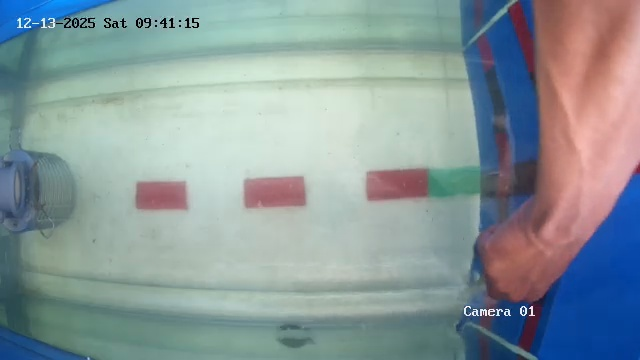fish: (281, 311, 326, 339)
